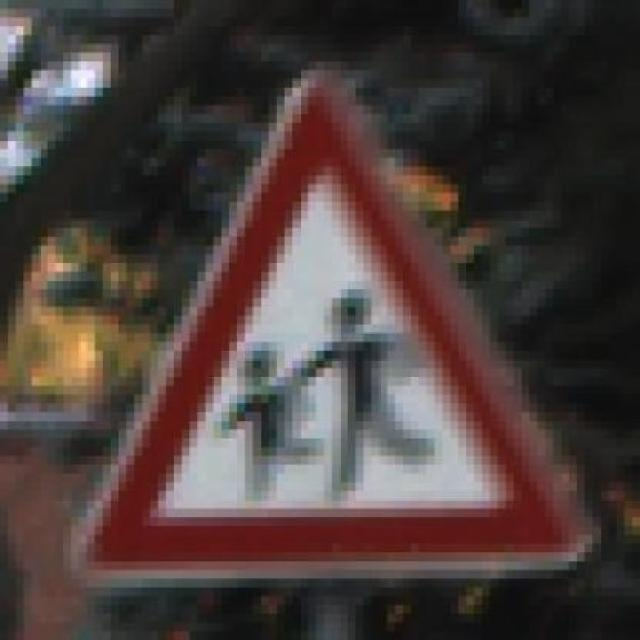Beware of children: (63, 62, 609, 588)
